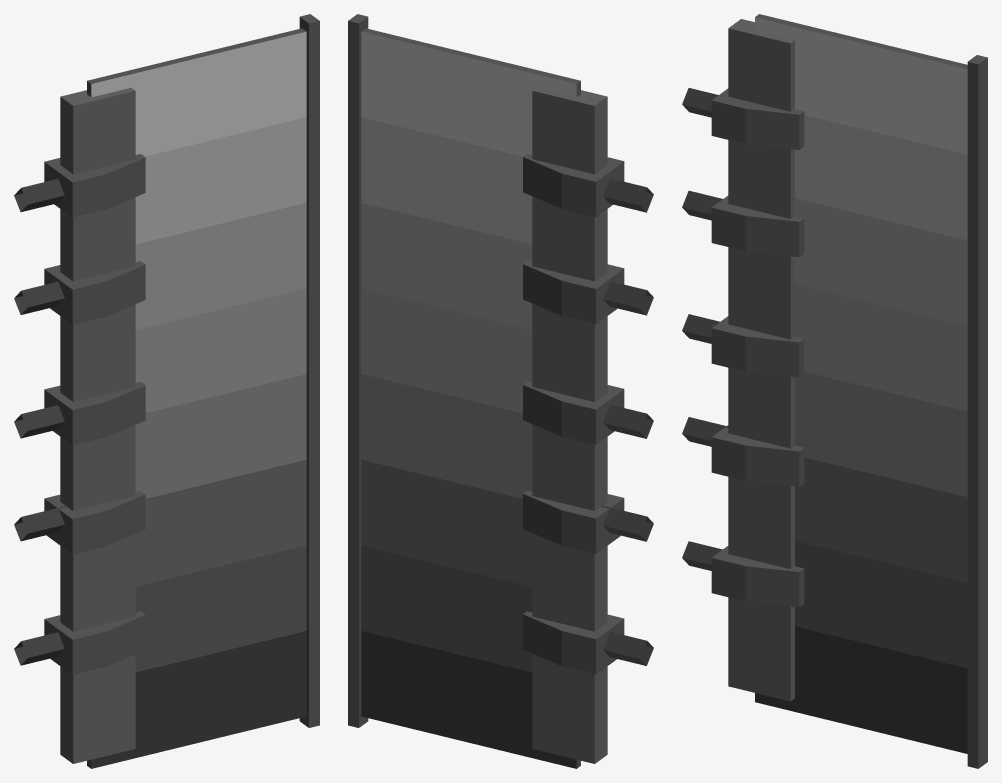
File: sign_texture.FBX
The picture shows the model from 3 angles, left to right: view 1: azimuth 30°, elevation 25°; view 2: azimuth 150°, elevation 25°; view 3: azimuth 330°, elevation 25°; orthographic projection.
Parts seen in each view (by area): view 1: sign_texture_glow, sign_texture; view 2: sign_texture_glow, sign_texture; view 3: sign_texture_glow, sign_texture.
Part boxes in pixels (x1,y1,x2,y2): sign_texture_glow: [91, 31, 306, 768]; sign_texture: [14, 14, 319, 768]; sign_texture_glow: [361, 31, 576, 768]; sign_texture: [348, 14, 653, 768]; sign_texture_glow: [755, 17, 967, 753]; sign_texture: [682, 14, 987, 768].
Size of the model in its own units: 113 by 258 by 18.81.
